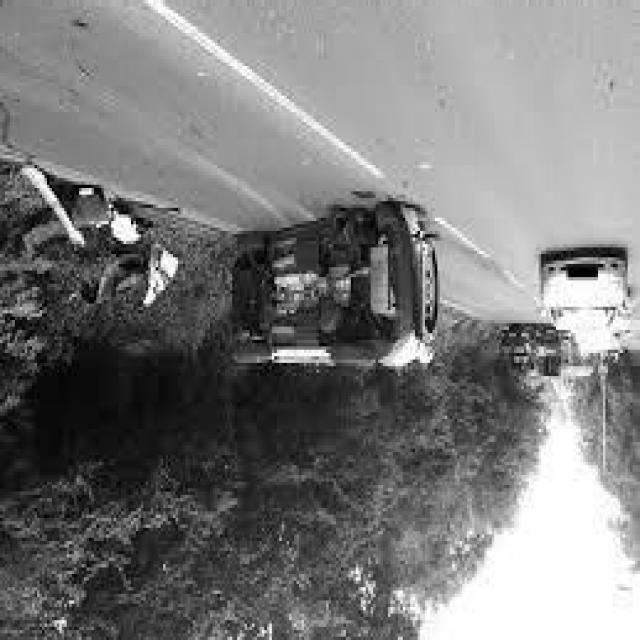severe: (225, 198, 442, 379)
